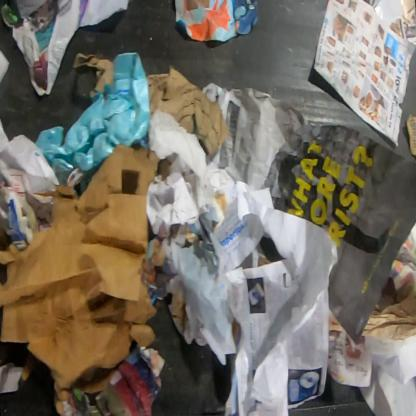cardboard: (0, 142, 161, 402)
soft_plastic: (34, 52, 151, 182)
